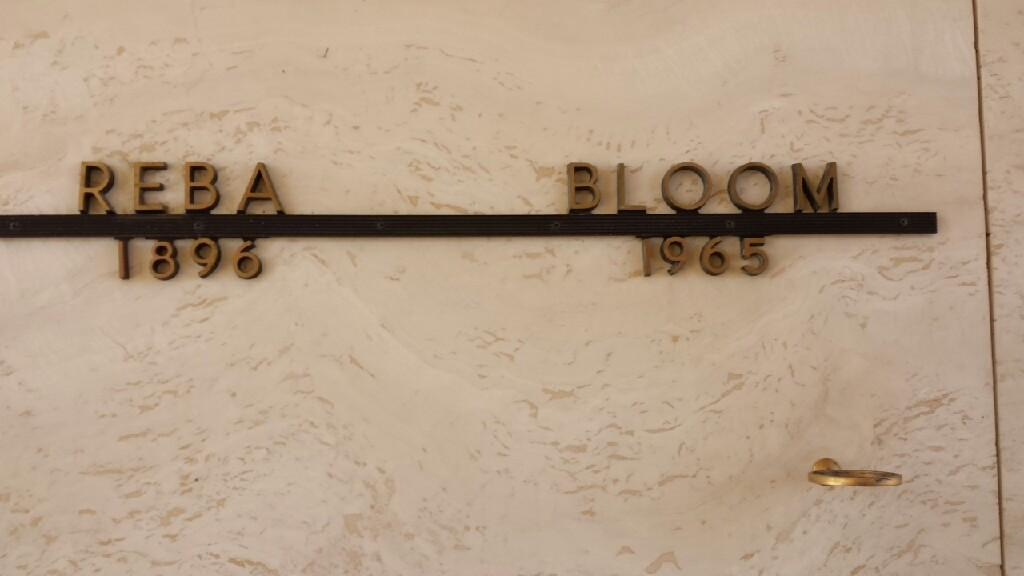plaque: (7, 12, 997, 569)
